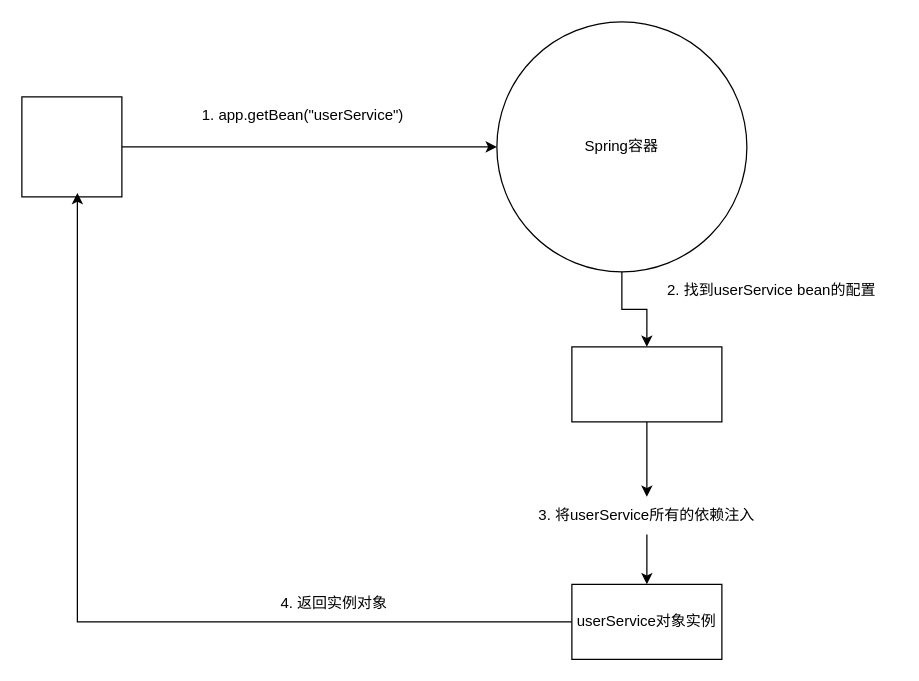
The diagram is 919 pixels wide and 681 high, and some of its shapes have lost their labels. The shapes that lost their labels are listed below. From the top down, each one's centre as x and y in pixels, then its label:
At (71,146): "SpringApp".
At (646,384): "userService Bean".
